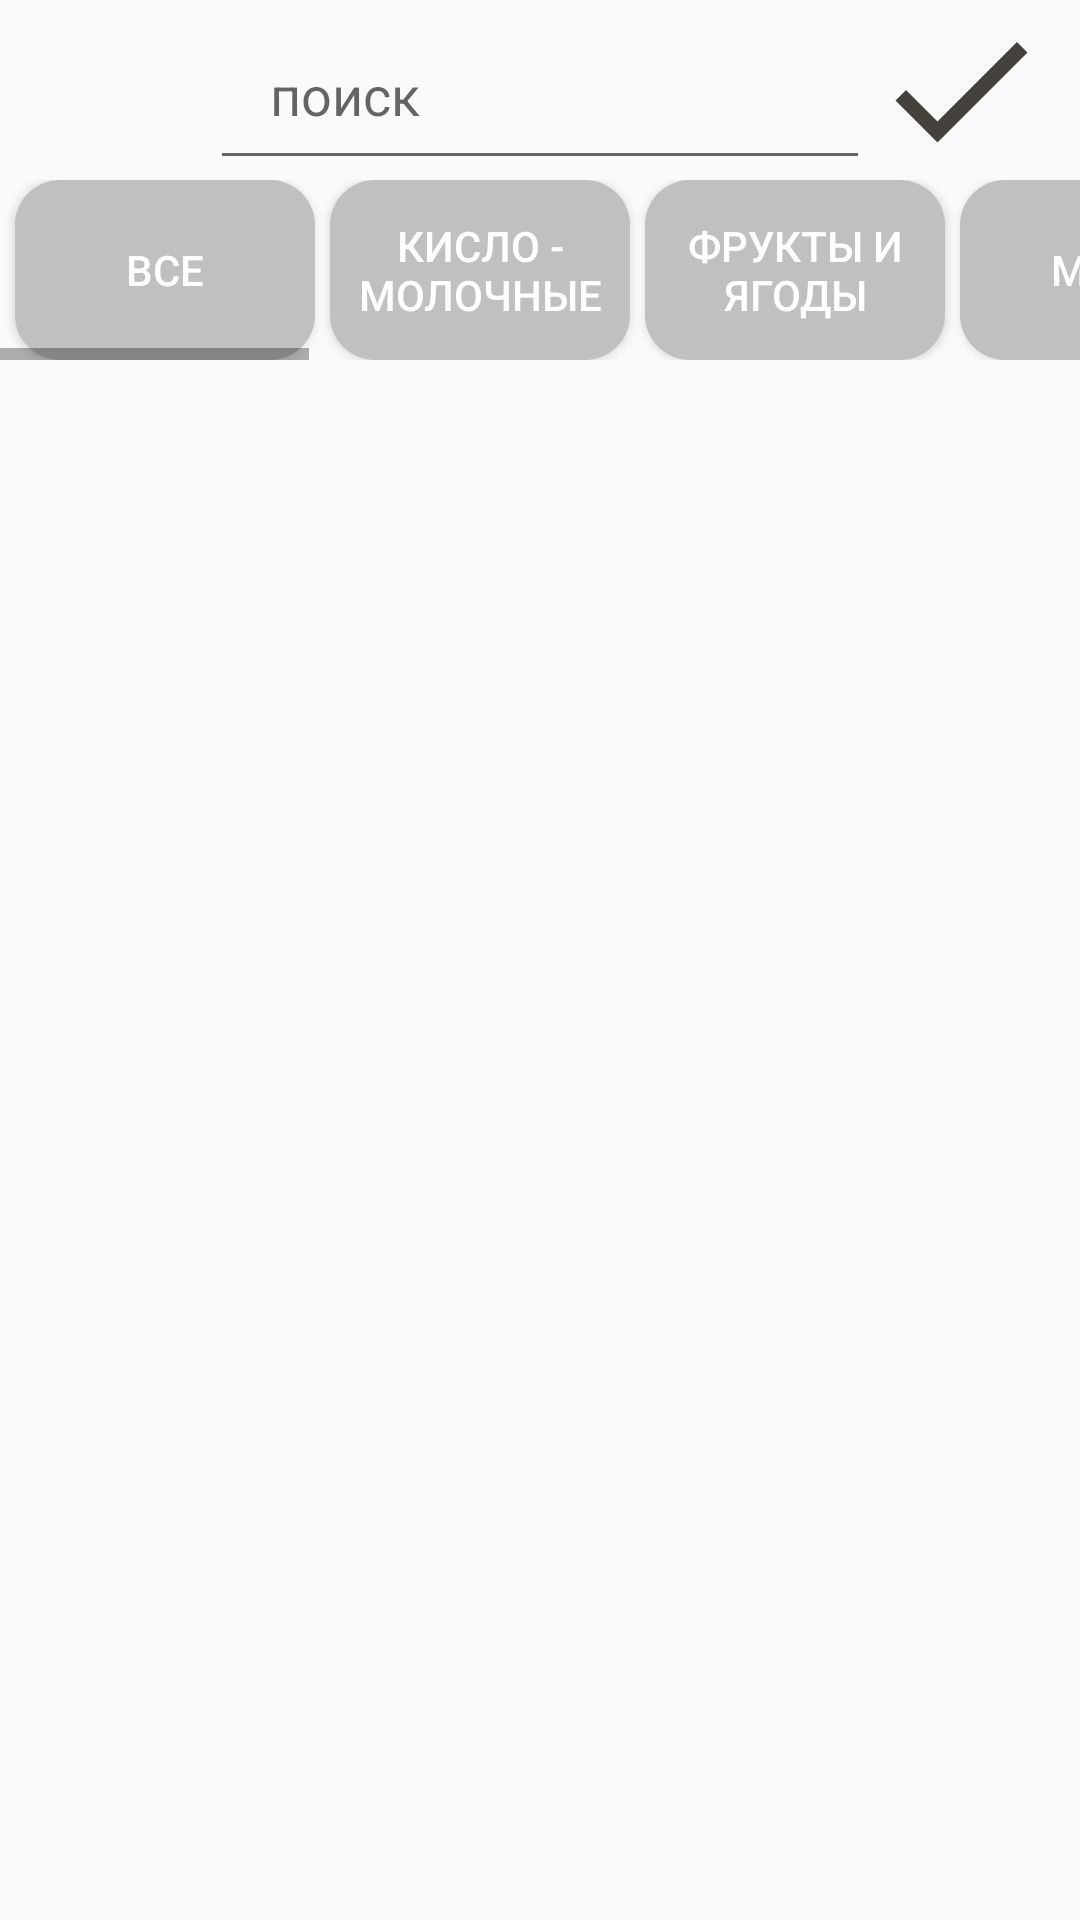

Locate icon controls on the screen. Image size 1080*1920, boxes as (x1, y1, x2, y2).
done: (895, 42, 1028, 143)
